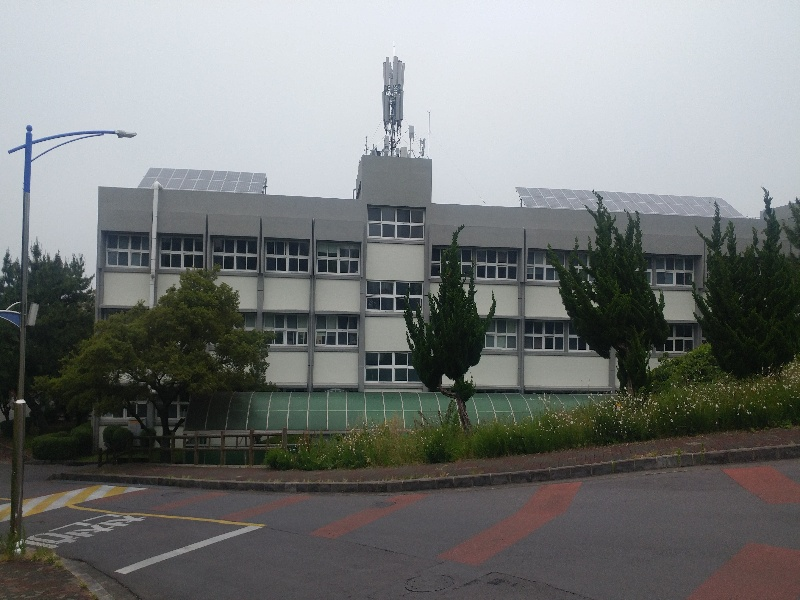Cultural lecture hall: (69, 80, 776, 379)
